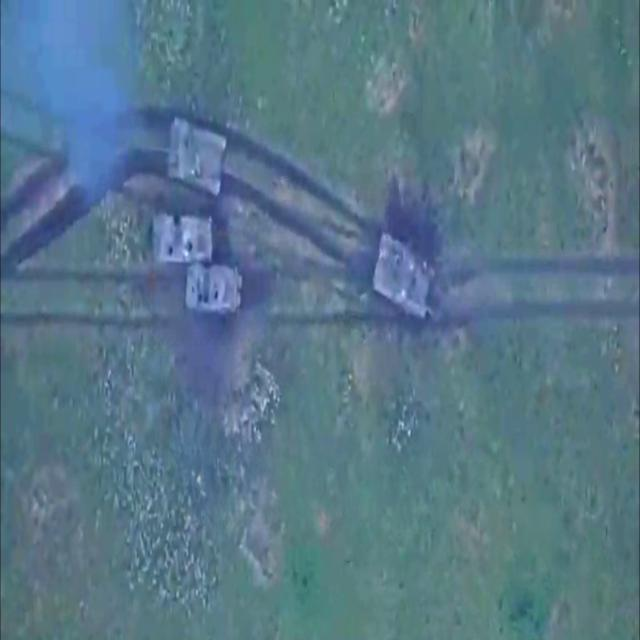AIFV: (152, 211, 216, 266), (186, 264, 245, 314)
MBT: (371, 228, 454, 351), (135, 115, 233, 201)
